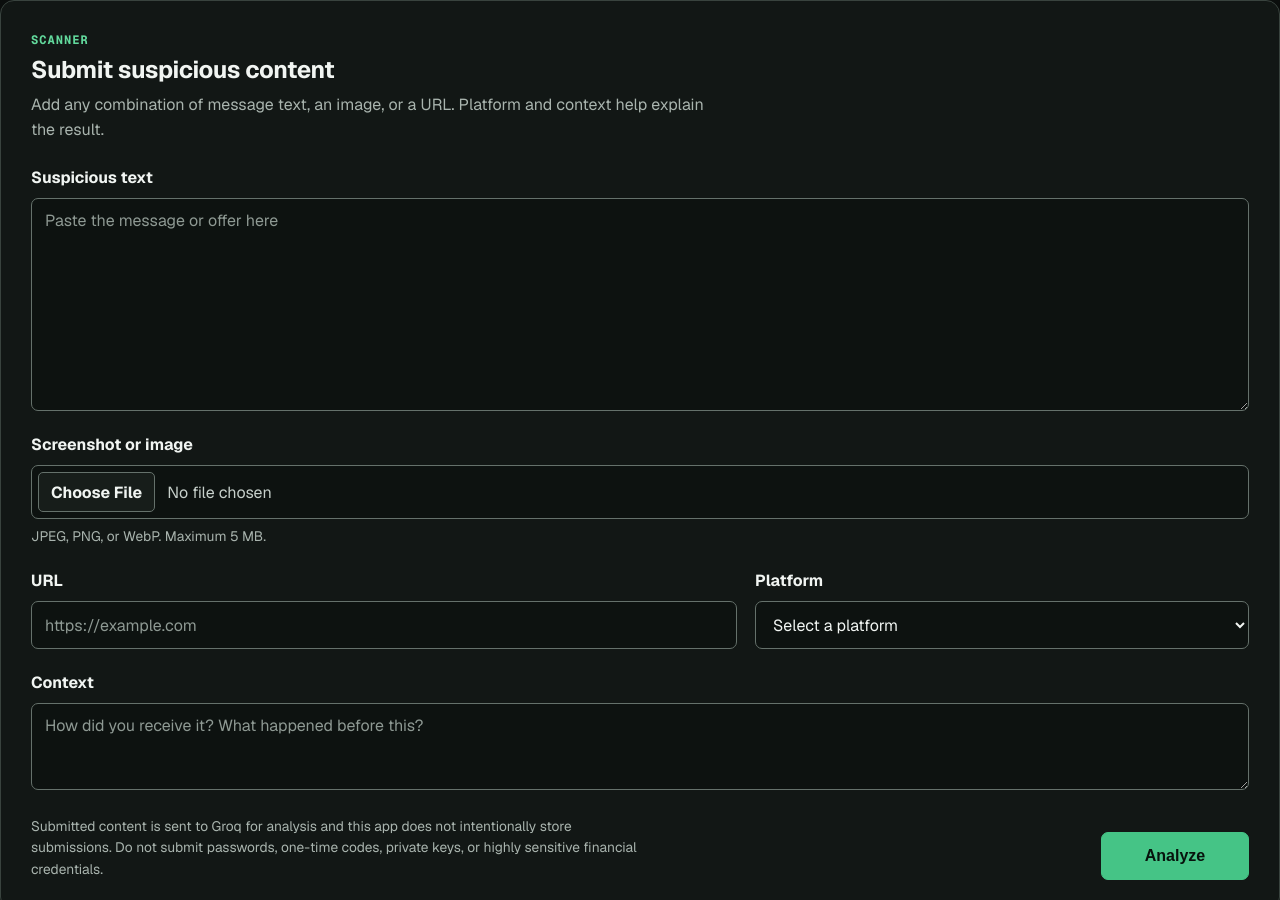
it: AnalysisForm › renders the result returned by the API
Step 1. Type "A suspicious offer" into the text box labelled "Suspicious text" → (640, 305), box [31,198,1249,411]
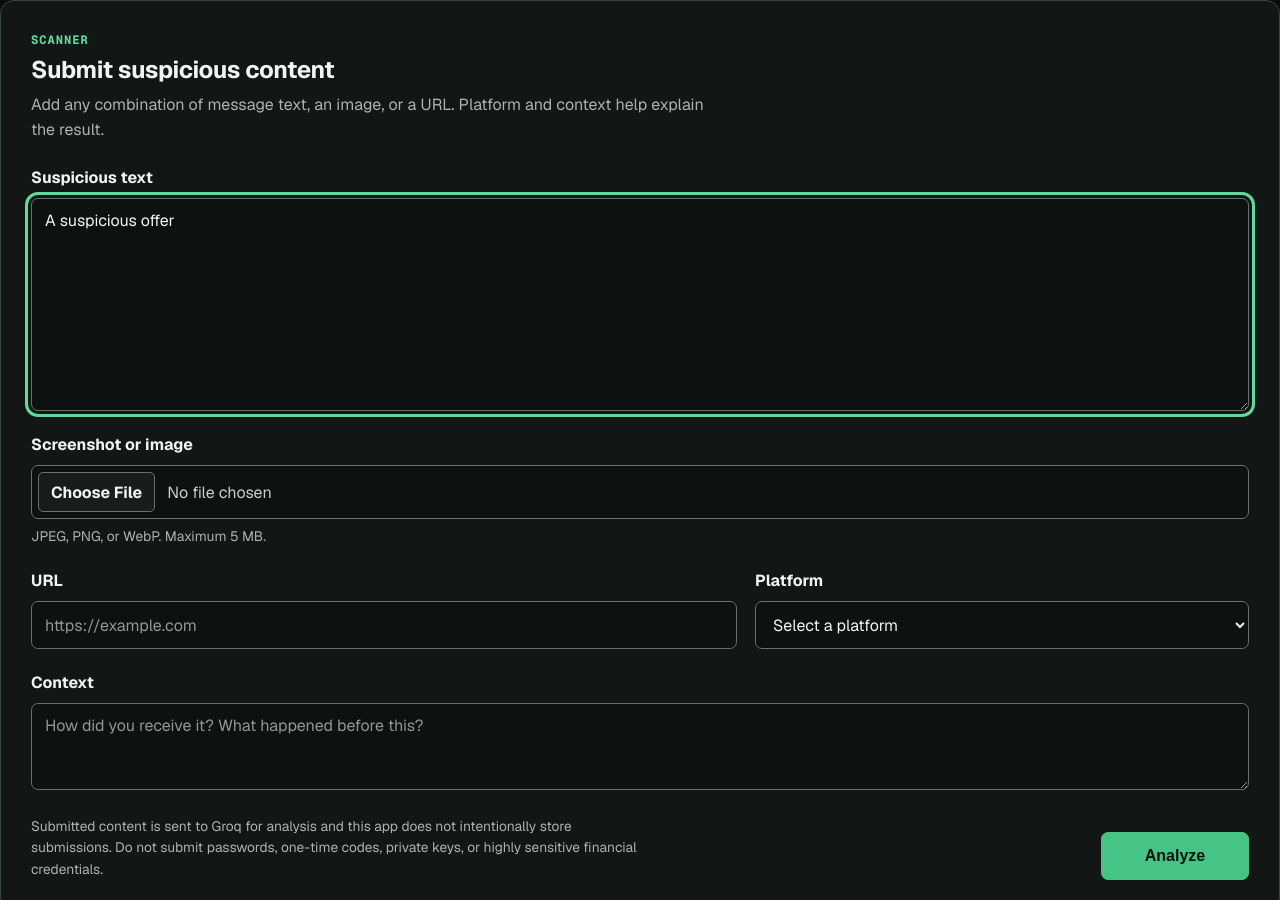
Step 2. Click the button "Analyze" → click(1175, 856), box [1101,832,1249,880]
(page scrolled)
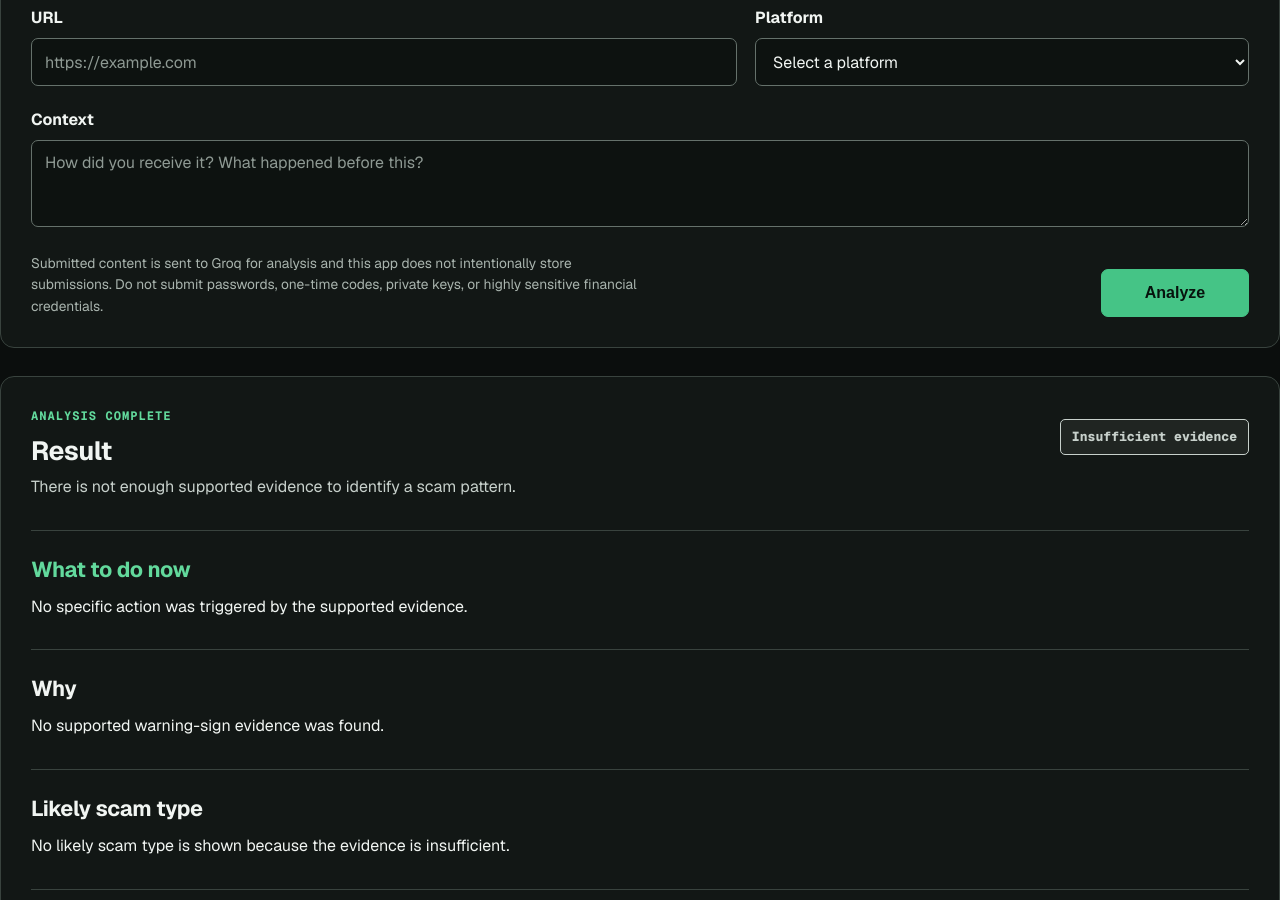
Result: the heading "Result" is shown at [31,433,112,468]
